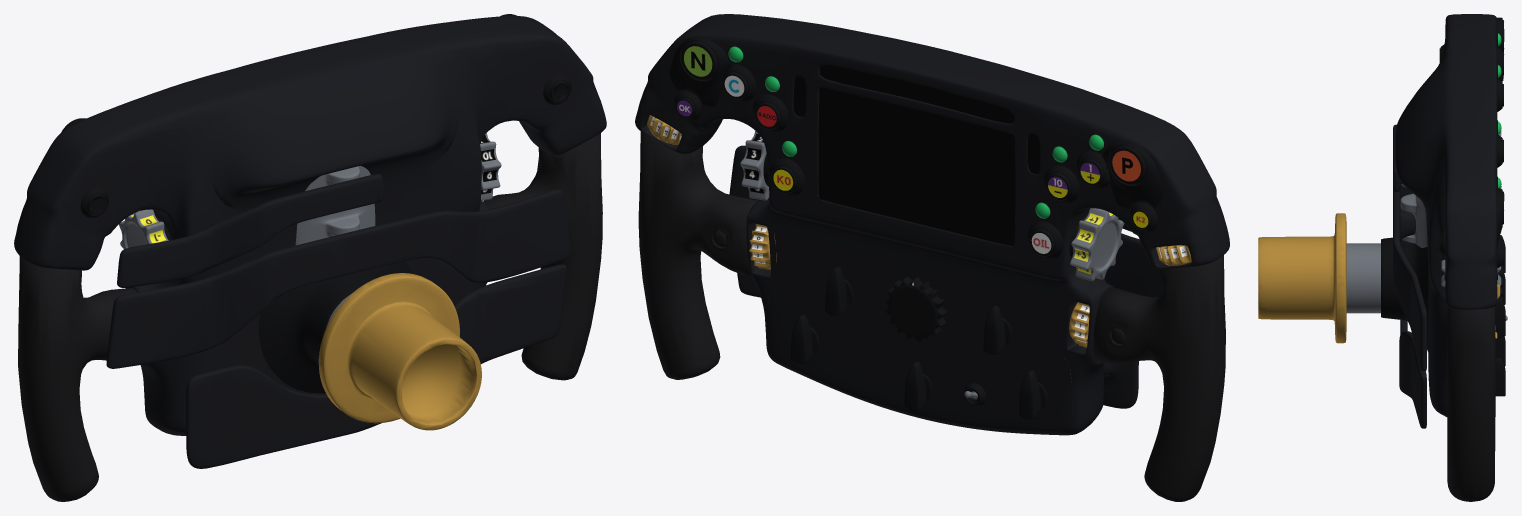
Rendered from wheel (10).glb.
3 renders of one model, left to right at view 1: azimuth 30°, elevation 25°; view 2: azimuth 150°, elevation 25°; view 3: azimuth 270°, elevation 25°, orthographic. The views are drawn at different scales.
Visible parts, largest first — view 1: Cube.027, paddle_gear_shifter.001, steering_wheel_grip.001, steering_wheel_mount_shaft.001, paddle_bottom.001, paddle_top.001, paddle_holders.001, steering_wheel_turnable_knobs_top_side.001, steering_wheel_top_buttons.001; view 2: Cube.027, steering_wheel_grip.001, steering_wheel_display_glass.001, steering_wheel_top_buttons.001, steering_wheel_turning_switches.001, steering_wheel_turnable_knobs_top_side.001, paddle_gear_shifter.001, steering_wheel_middle_turning_knob.001, steering_wheel_turning_knobs.001, paddle_bottom.001, steering_wheel_top_leds.001; view 3: Cube.027, steering_wheel_mount_shaft.001, steering_wheel_grip.001, paddle_gear_shifter.001, paddle_bottom.001, steering_wheel_top_buttons.001, steering_wheel_turning_switches.001, paddle_holders.001, paddle_top.001.
Boxes of the visible parts, x1,y1,x2,y2 form: Cube.027: [14, 16, 606, 435]; paddle_gear_shifter.001: [106, 189, 570, 368]; steering_wheel_grip.001: [18, 133, 602, 501]; steering_wheel_mount_shaft.001: [258, 261, 481, 430]; paddle_bottom.001: [186, 264, 566, 468]; paddle_top.001: [117, 174, 383, 287]; paddle_holders.001: [295, 166, 375, 245]; steering_wheel_turnable_knobs_top_side.001: [119, 133, 501, 249]; steering_wheel_top_buttons.001: [61, 14, 571, 217]; Cube.027: [635, 14, 1229, 435]; steering_wheel_grip.001: [638, 131, 1225, 501]; steering_wheel_display_glass.001: [793, 65, 1039, 245]; steering_wheel_top_buttons.001: [669, 36, 1163, 259]; steering_wheel_turning_switches.001: [790, 266, 1047, 419]; steering_wheel_turnable_knobs_top_side.001: [740, 131, 1124, 281]; paddle_gear_shifter.001: [729, 145, 1161, 297]; steering_wheel_middle_turning_knob.001: [885, 276, 946, 341]; steering_wheel_turning_knobs.001: [647, 115, 1191, 347]; paddle_bottom.001: [737, 273, 1138, 408]; steering_wheel_top_leds.001: [727, 45, 1104, 219]; Cube.027: [1395, 14, 1497, 416]; steering_wheel_mount_shaft.001: [1258, 213, 1428, 351]; steering_wheel_grip.001: [1446, 306, 1496, 501]; paddle_gear_shifter.001: [1393, 184, 1426, 370]; paddle_bottom.001: [1399, 320, 1426, 428]; steering_wheel_top_buttons.001: [1439, 17, 1504, 267]; steering_wheel_turning_switches.001: [1495, 235, 1505, 396]; paddle_holders.001: [1400, 183, 1427, 247]; paddle_top.001: [1393, 124, 1402, 191].
Bounding box in the file's own units: 0.3063 × 0.1906 × 0.1395.
13 materials, 1 textured.
